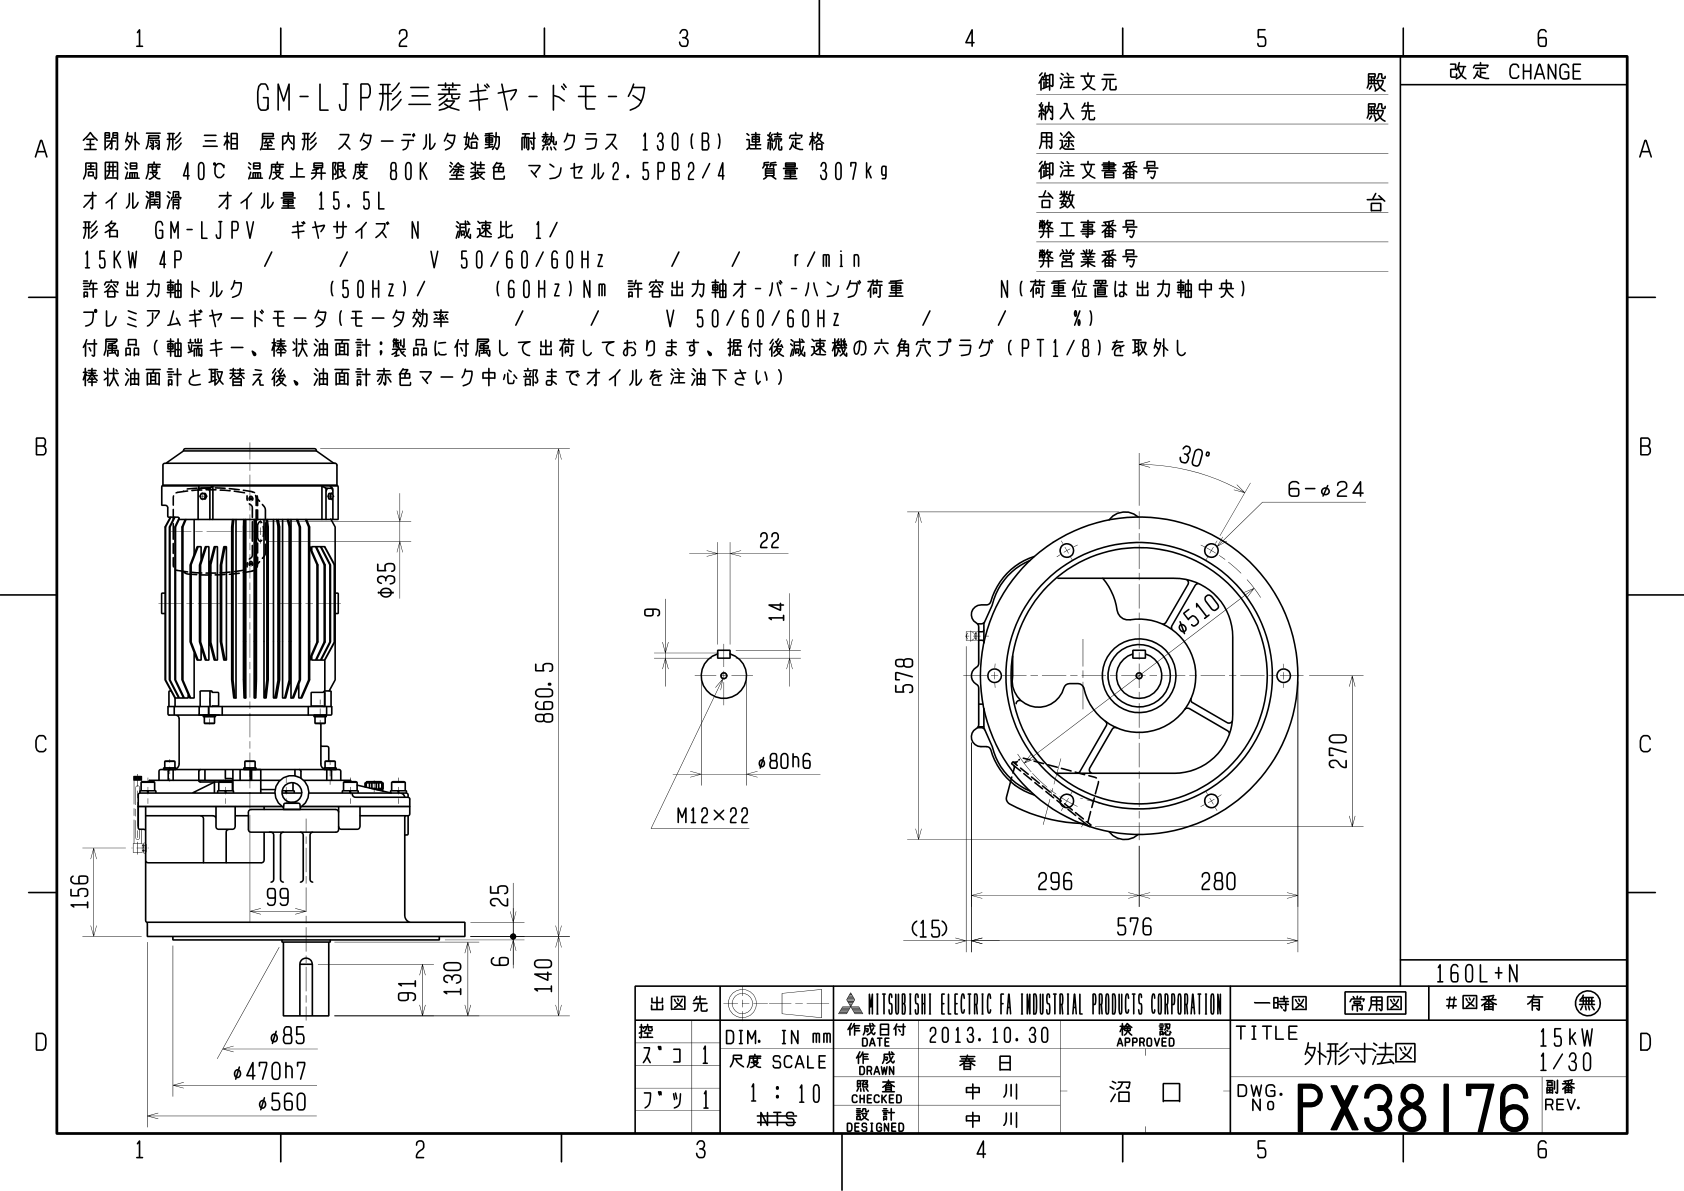GM_LJP_屋内_三相_立: (1, 1, 1678, 1176)
